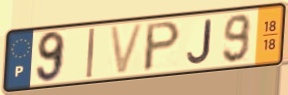9: (36, 29, 68, 85), (220, 13, 253, 65)
I: (85, 26, 97, 80)
J: (185, 18, 213, 66)
P: (141, 19, 183, 75)
V: (107, 21, 147, 77)
